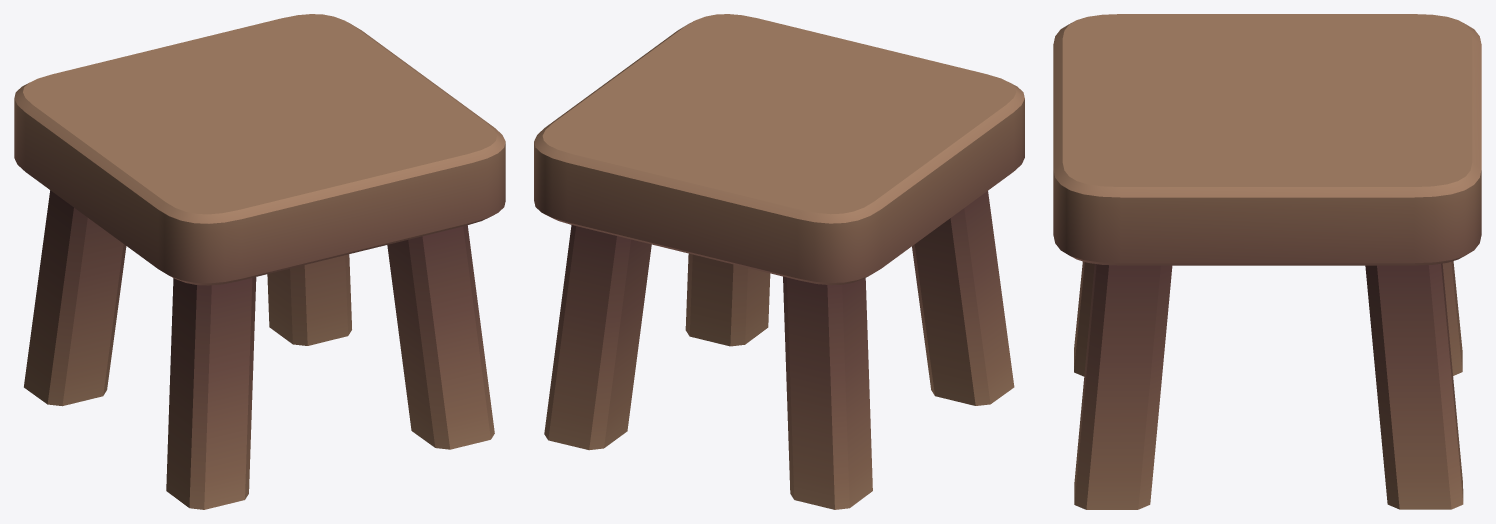
File: wooden_stool_.fbx
3 renders of one model, left to right at view 1: azimuth 30°, elevation 25°; view 2: azimuth 150°, elevation 25°; view 3: azimuth 270°, elevation 25°, orthographic. The views are drawn at different scales.
Visible parts, largest first — view 1: wooden_stoole; view 2: wooden_stoole; view 3: wooden_stoole.
Part boxes in pixels (x1,y1,x2,y2): wooden_stoole: (14, 14, 505, 509); wooden_stoole: (534, 14, 1024, 509); wooden_stoole: (1053, 14, 1481, 509).
Bounding box in the file's own units: 119 × 101 × 119.
1 material, 1 textured.
